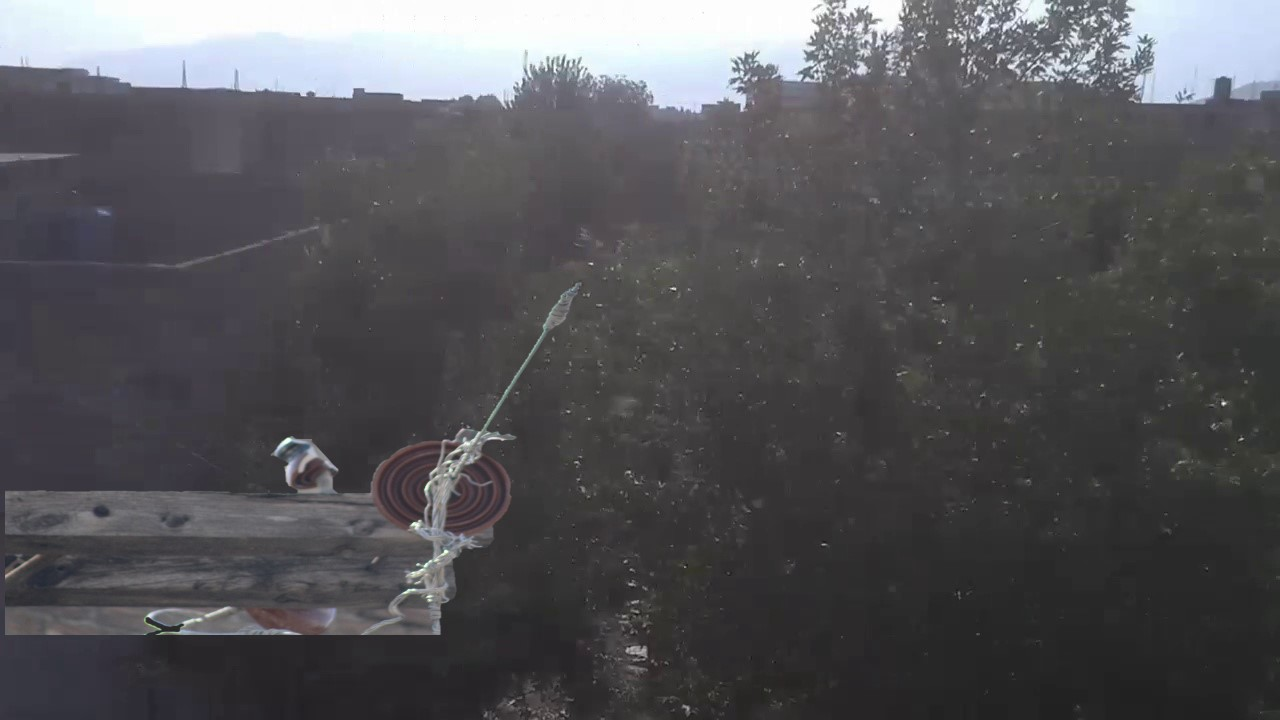defect_pin: (264, 429, 343, 501)
insulator_disc: (370, 433, 518, 540)
